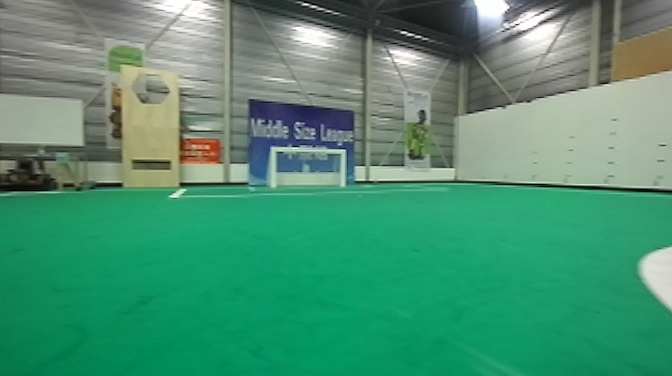goalpost: (335, 142, 352, 191), (266, 144, 282, 191)
